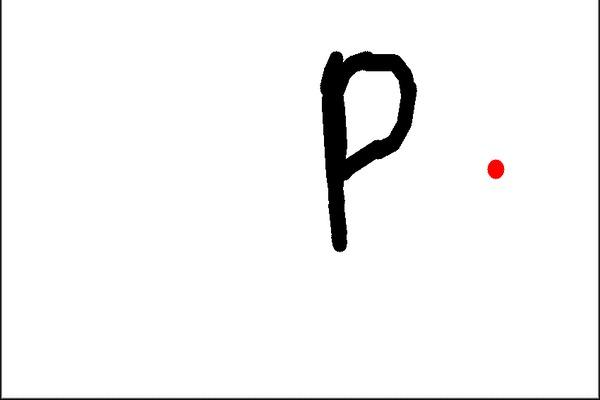P: (305, 33, 431, 264)
